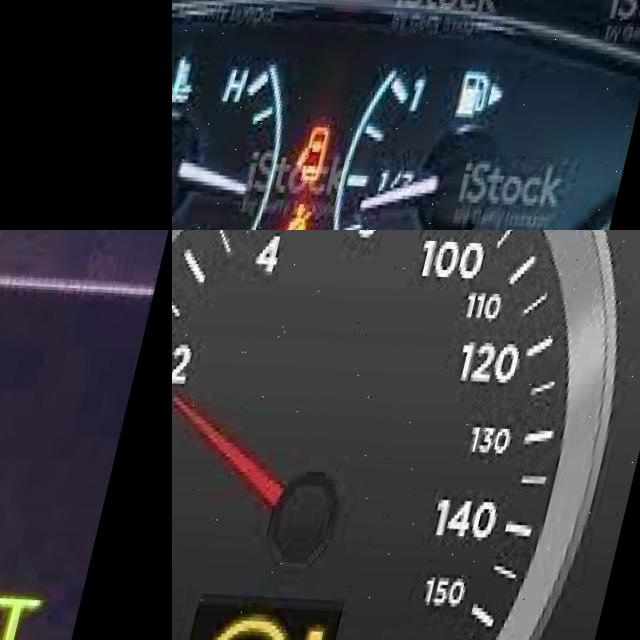Electronic Power Steering Warning: (193, 607, 353, 640)
Seat Belt: (291, 193, 335, 230)
